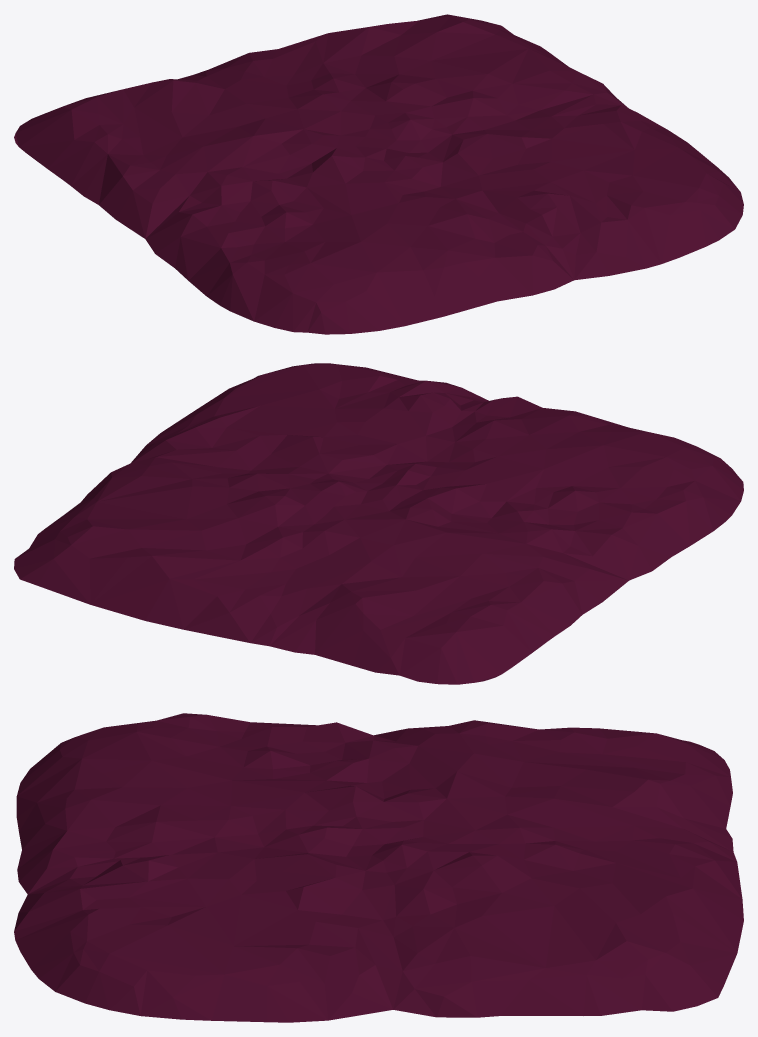
Rendered from land_007.fbx.
3 views of the same model, one above another, from view 1: azimuth 30°, elevation 25°; view 2: azimuth 150°, elevation 25°; view 3: azimuth 270°, elevation 25° (orthographic). The views are drawn at different scales.
Visible parts, largest first — view 1: land_007; view 2: land_007; view 3: land_007.
Part boxes in pixels (box(x1,y1,x2,y2)): land_007: box(14, 14, 743, 334); land_007: box(14, 363, 743, 684); land_007: box(14, 713, 743, 1022).
Bounding box in the file's own units: 3944 × 4166 × 333.
